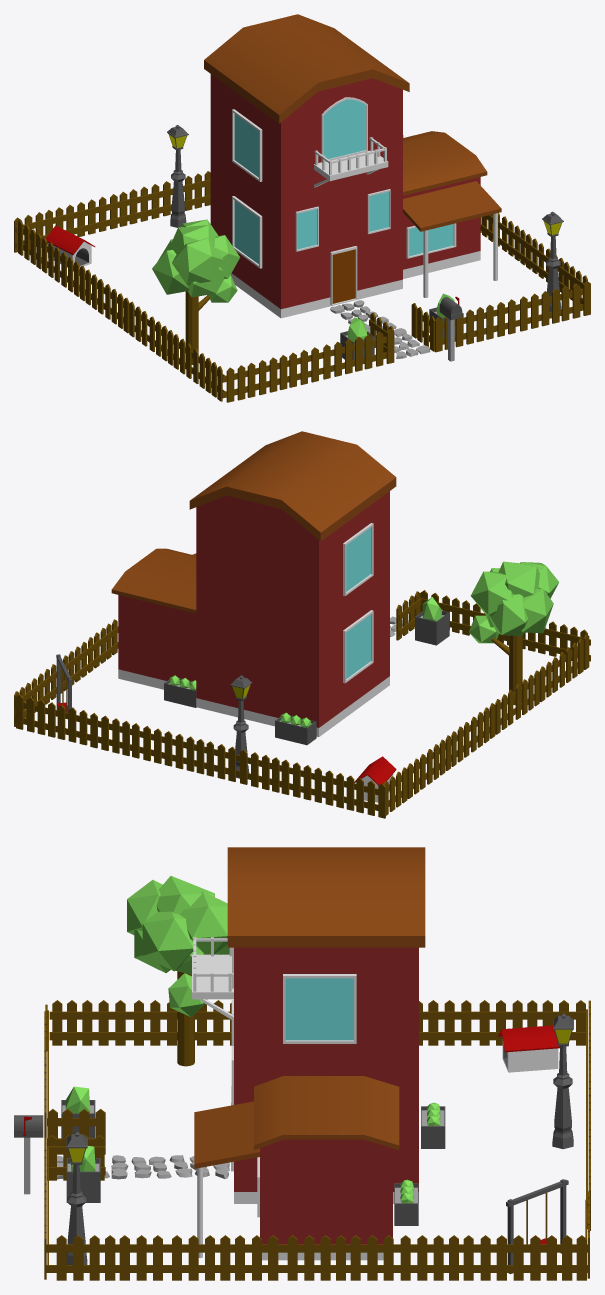
Rendered from eee11.fbx.
3 renders of one model, top to bottom at view 1: azimuth 30°, elevation 25°; view 2: azimuth 150°, elevation 25°; view 3: azimuth 270°, elevation 25°, orthographic. The views are drawn at different scales.
Parts seen in each view (by area): view 1: eee11; view 2: eee11; view 3: eee11.
Boxes of the visible parts, <box> form: eee11: <box>14,14,590,402</box>; eee11: <box>14,431,590,818</box>; eee11: <box>14,847,590,1280</box>.
Size of the model in its own units: 25.84 by 15.23 by 25.76.
